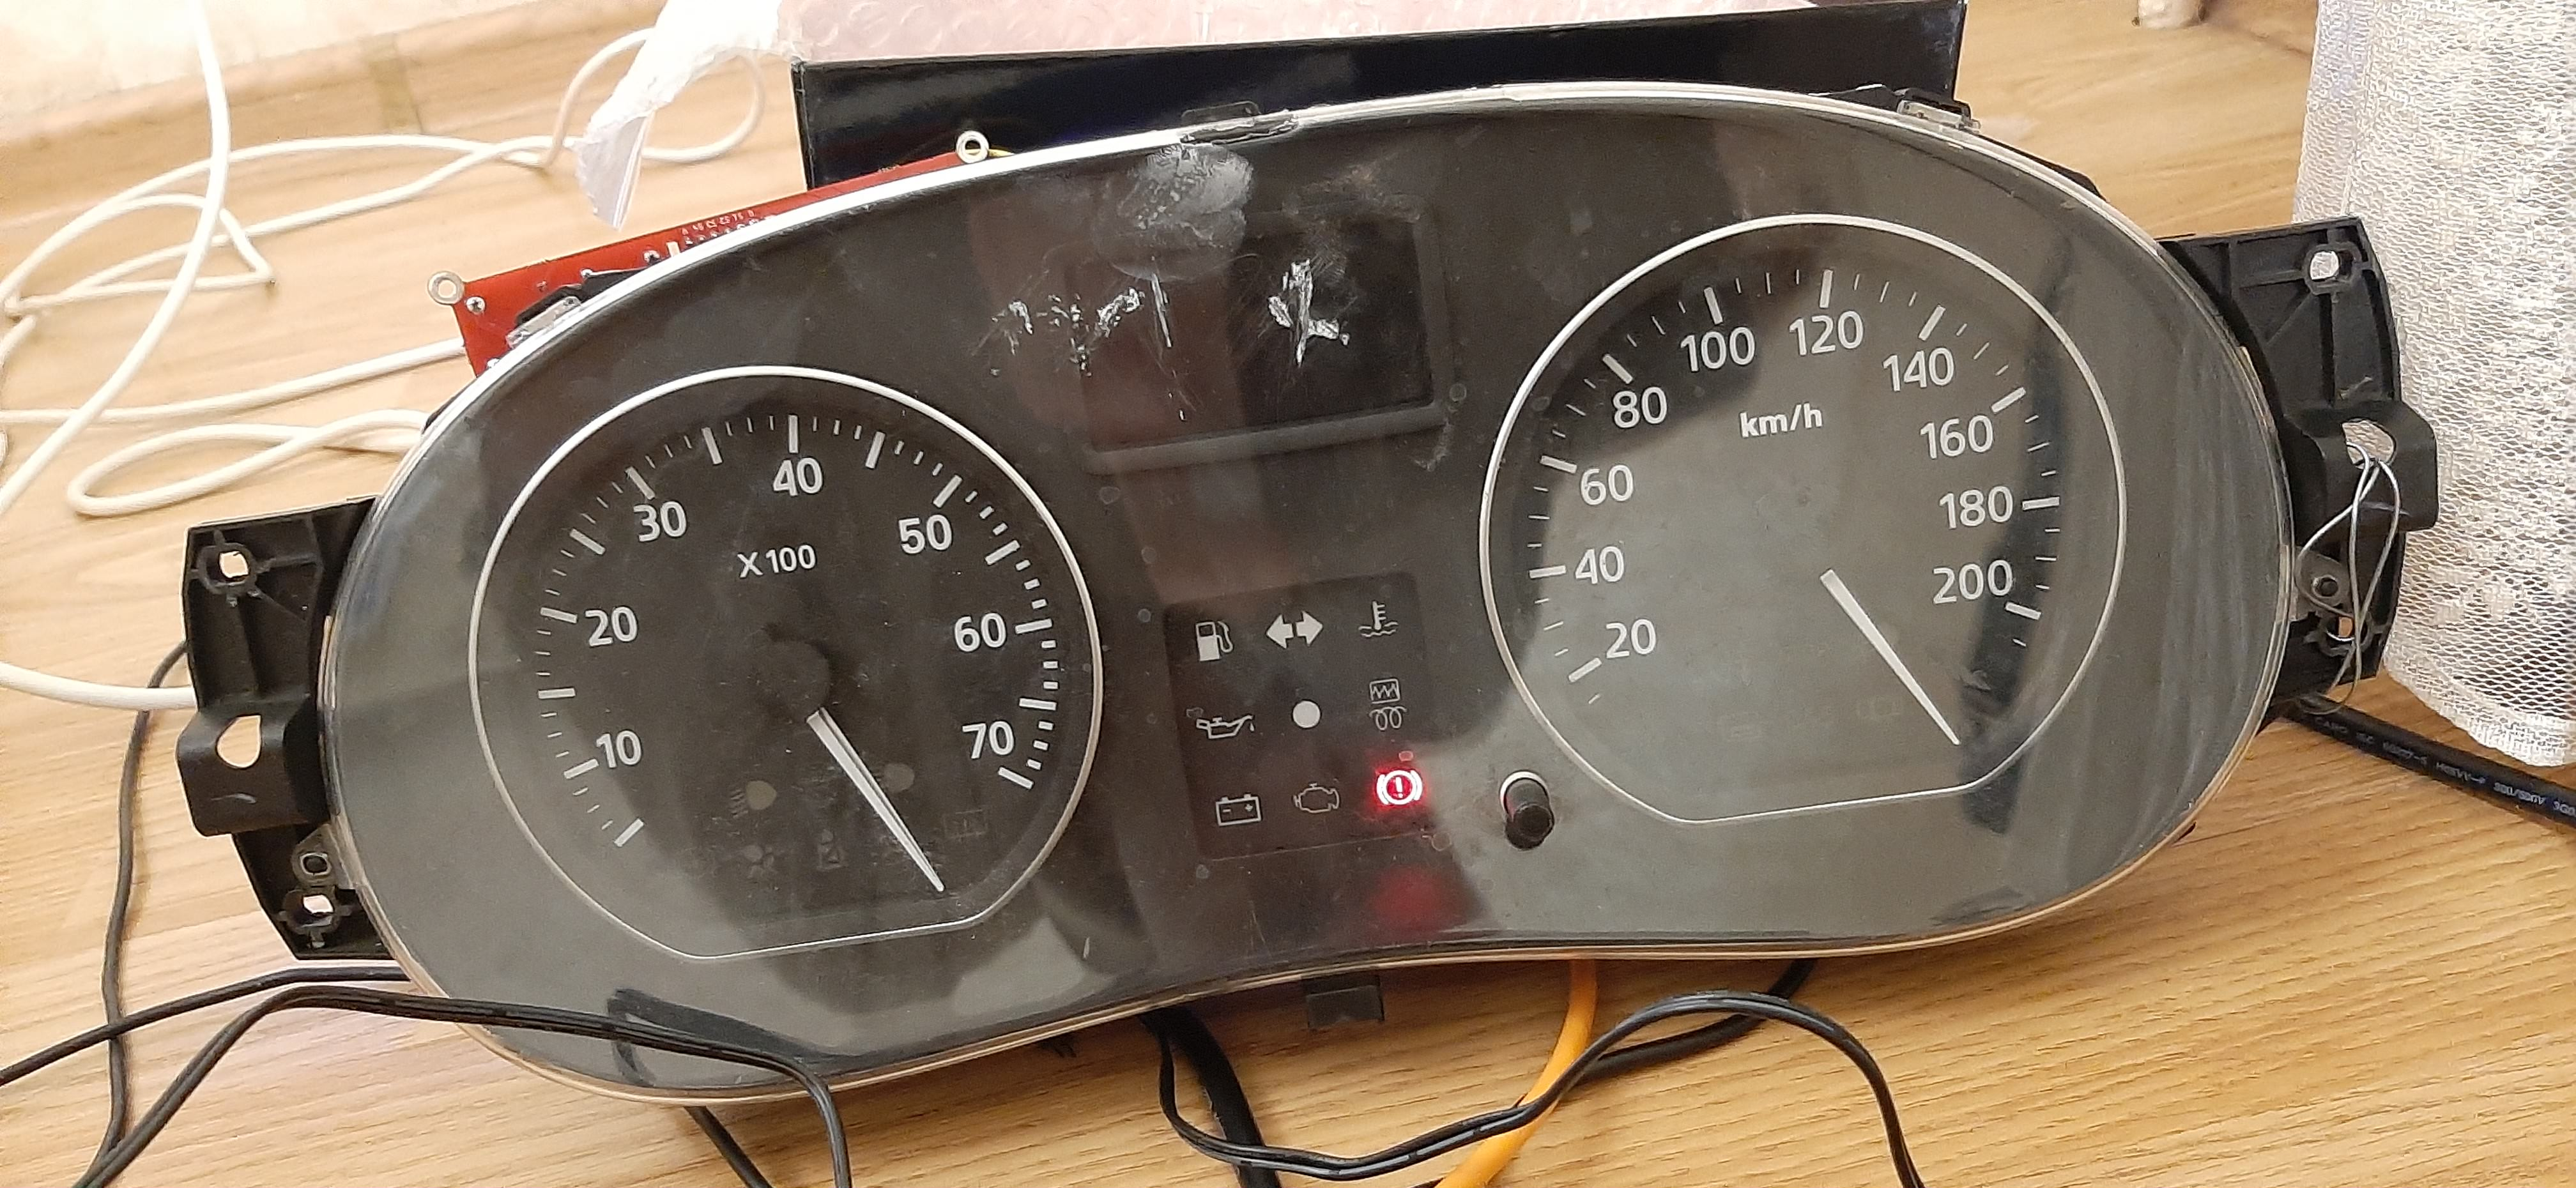brake10: (1373, 767, 1424, 807)
